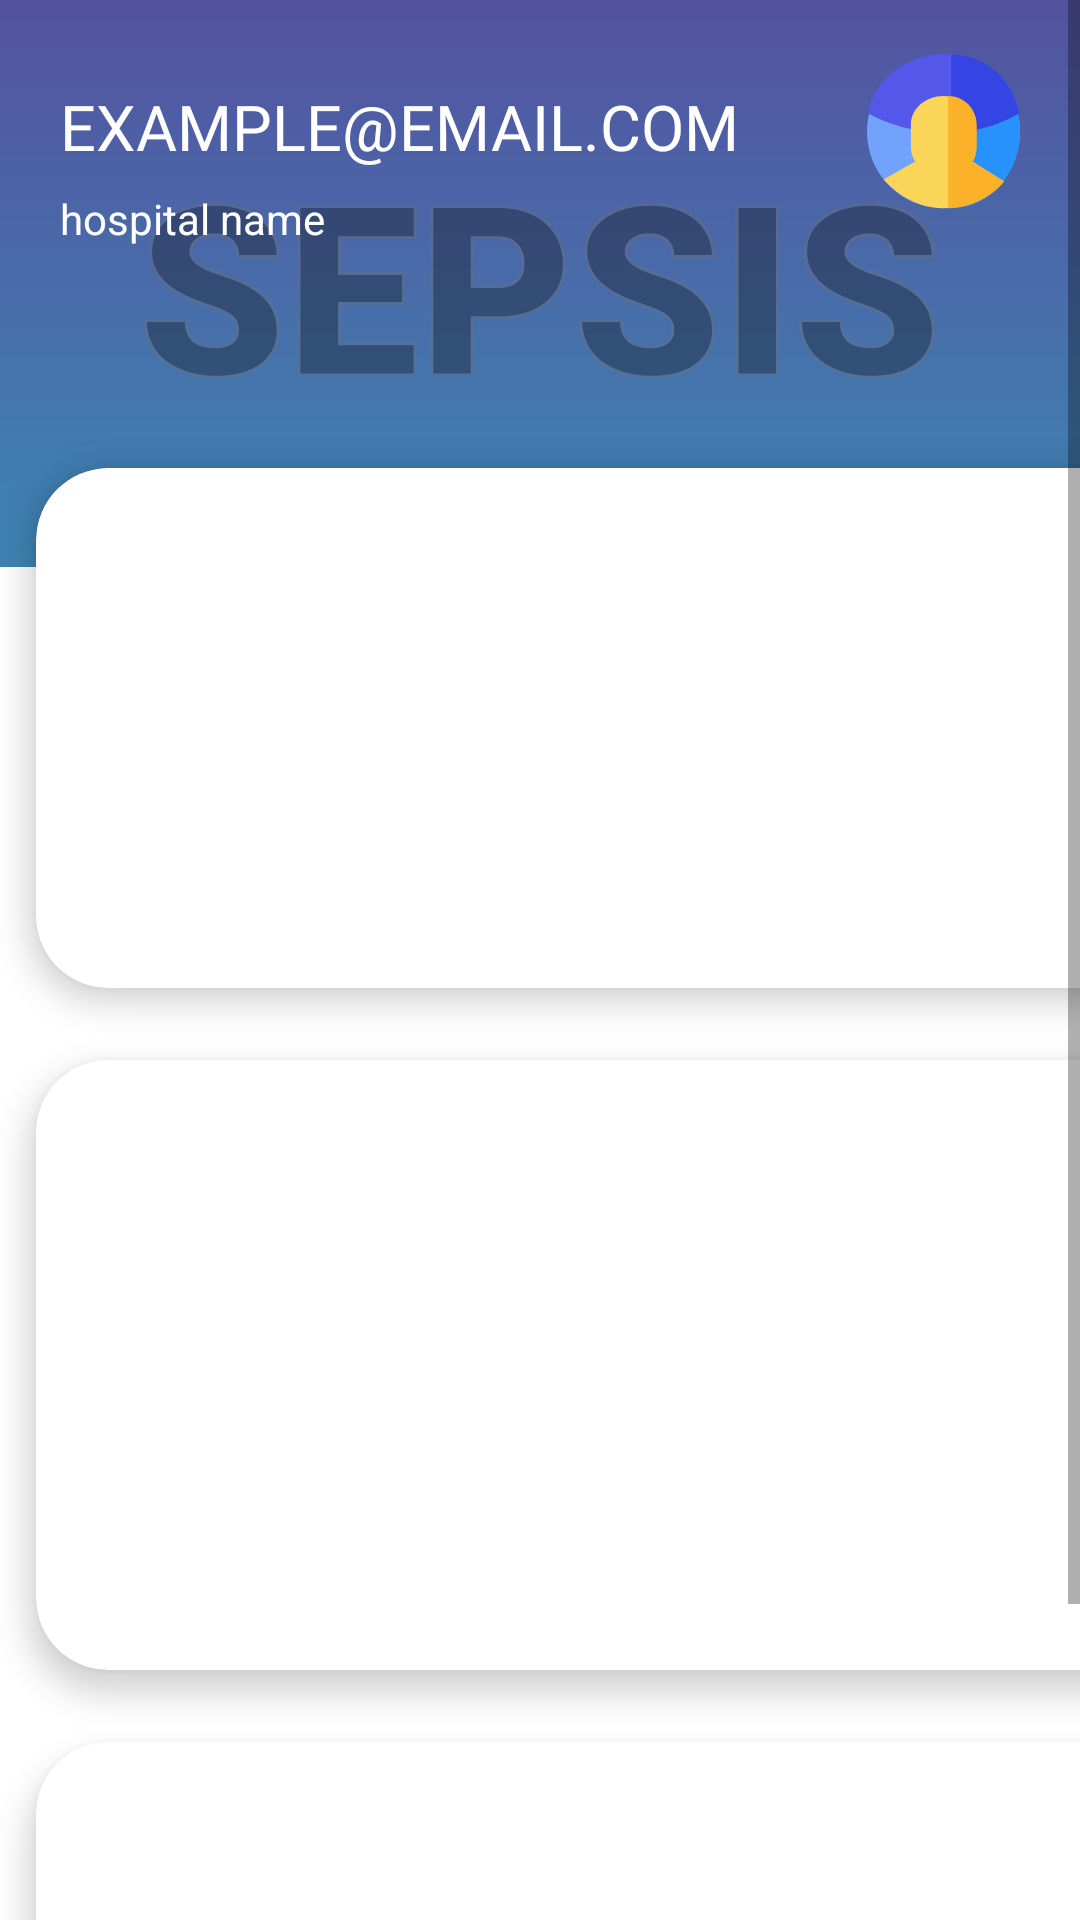

Named icons in this screenshot (1080px x 1920px) and their centers, point (x, y):
user: point (943, 131)
